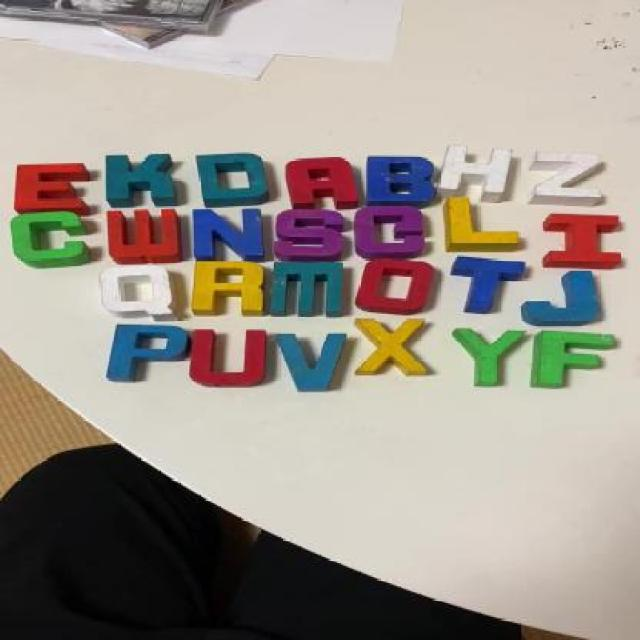A: (290, 157, 359, 206)
B: (368, 157, 443, 205)
C: (6, 212, 91, 271)
D: (198, 153, 272, 204)
E: (15, 163, 91, 214)
F: (526, 329, 623, 389)
G: (362, 207, 433, 258)
H: (439, 148, 518, 202)
I: (542, 214, 626, 269)
J: (524, 271, 604, 327)
K: (109, 154, 180, 203)
L: (439, 199, 521, 253)
M: (268, 262, 346, 318)
N: (189, 207, 274, 262)
O: (354, 261, 435, 316)
P: (110, 324, 190, 378)
Q: (94, 262, 175, 321)
R: (186, 258, 268, 316)
S: (278, 209, 353, 263)
T: (448, 257, 524, 311)
U: (191, 327, 272, 384)
V: (277, 336, 349, 395)
W: (97, 208, 186, 264)
X: (353, 316, 435, 378)
Y: (458, 328, 528, 387)
Z: (539, 154, 603, 206)
